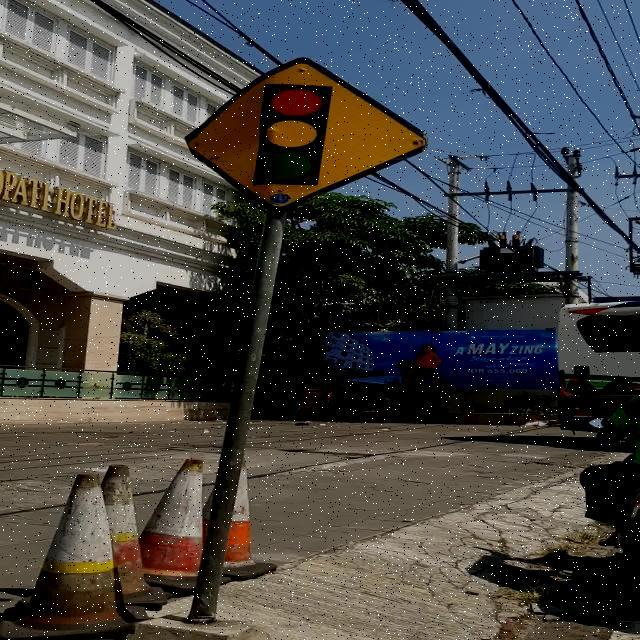Lampu Lalu Lintas: (186, 57, 424, 214)
